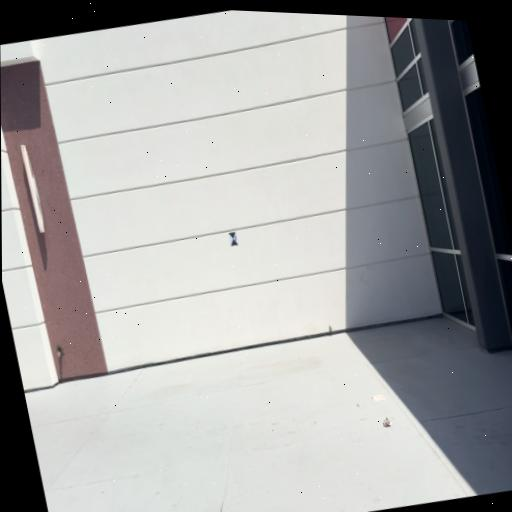target7: (229, 231, 240, 247)
